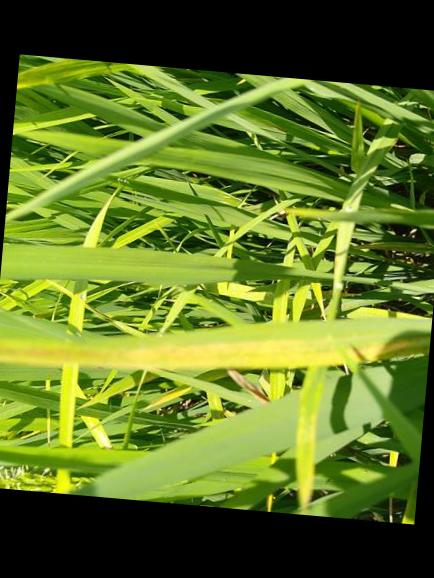Leaf Streak: (0, 333, 431, 371), (294, 365, 327, 507), (16, 59, 101, 92)
